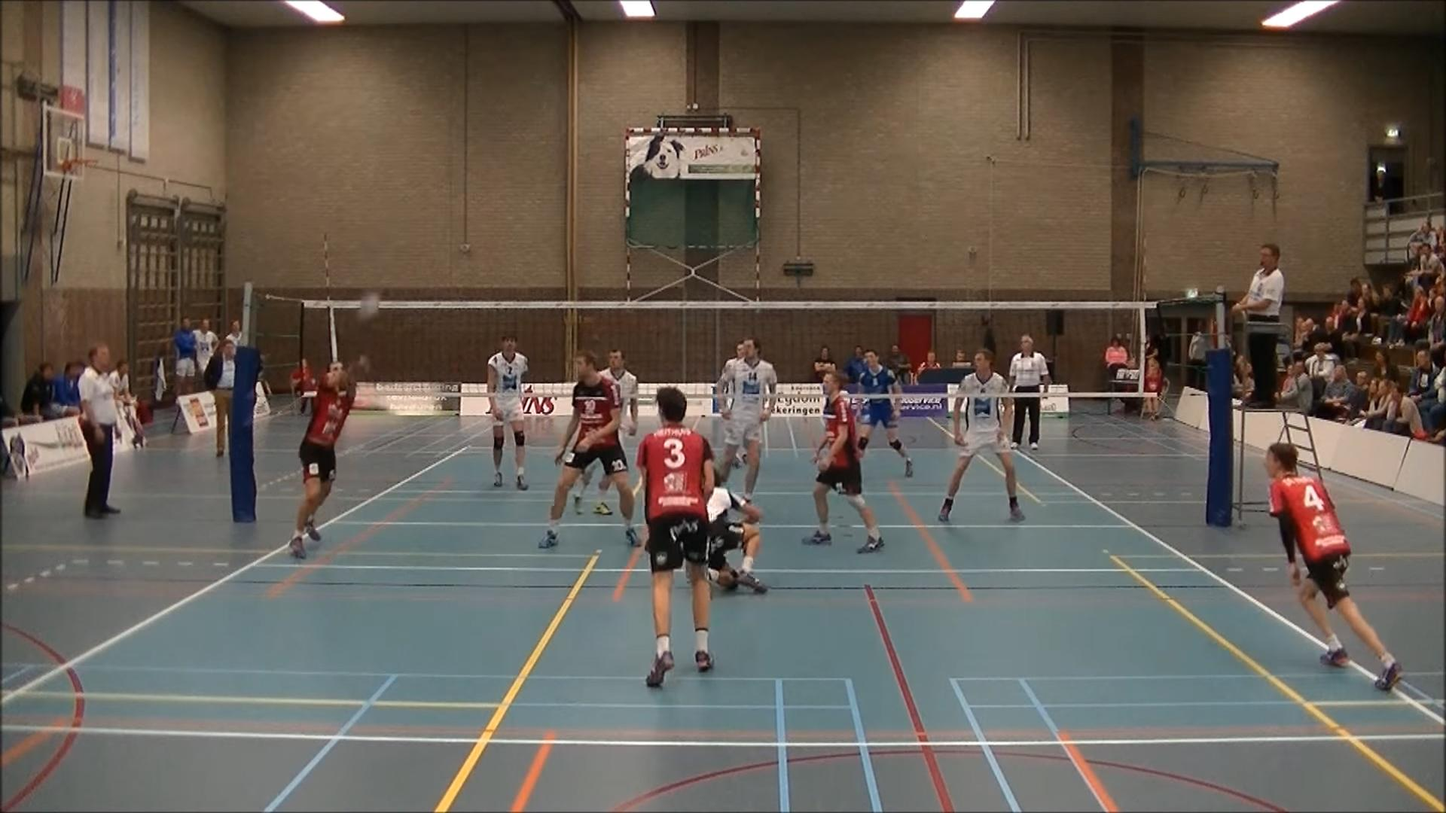Player: (1264, 444, 1402, 690), (636, 387, 713, 687), (538, 351, 639, 548), (938, 349, 1024, 522), (804, 371, 883, 553), (716, 338, 777, 499), (856, 350, 912, 477), (487, 333, 528, 489), (707, 487, 767, 592), (600, 349, 638, 436), (720, 342, 745, 382)
Set: (290, 348, 376, 560)
ball: (353, 284, 383, 329)
